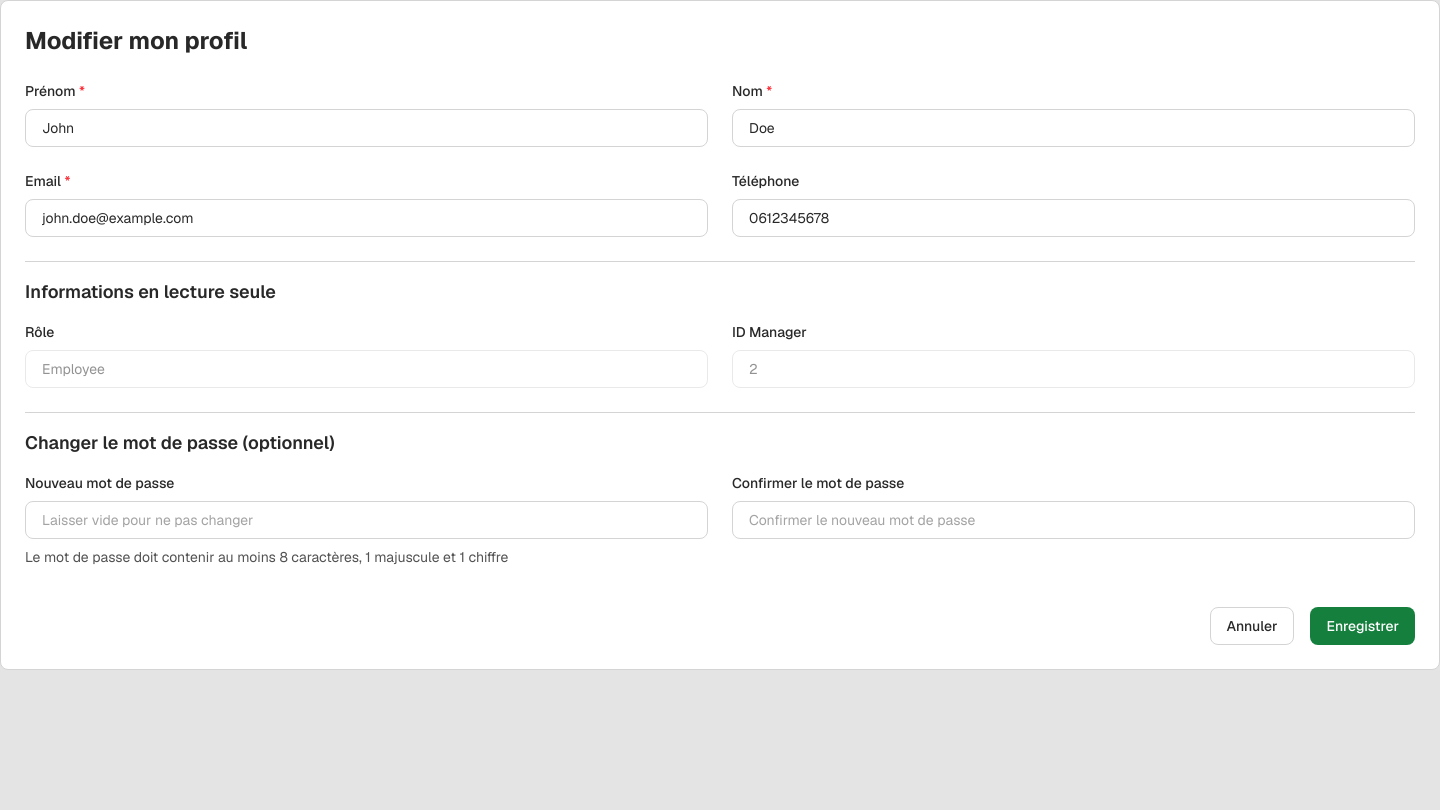
it: ProfileEditForm › Form Validation - Required Fields › should show error when name is empty
Clear the field labelled "Prénom *" at {"x": 366, "y": 128}, box [25,109,708,147]
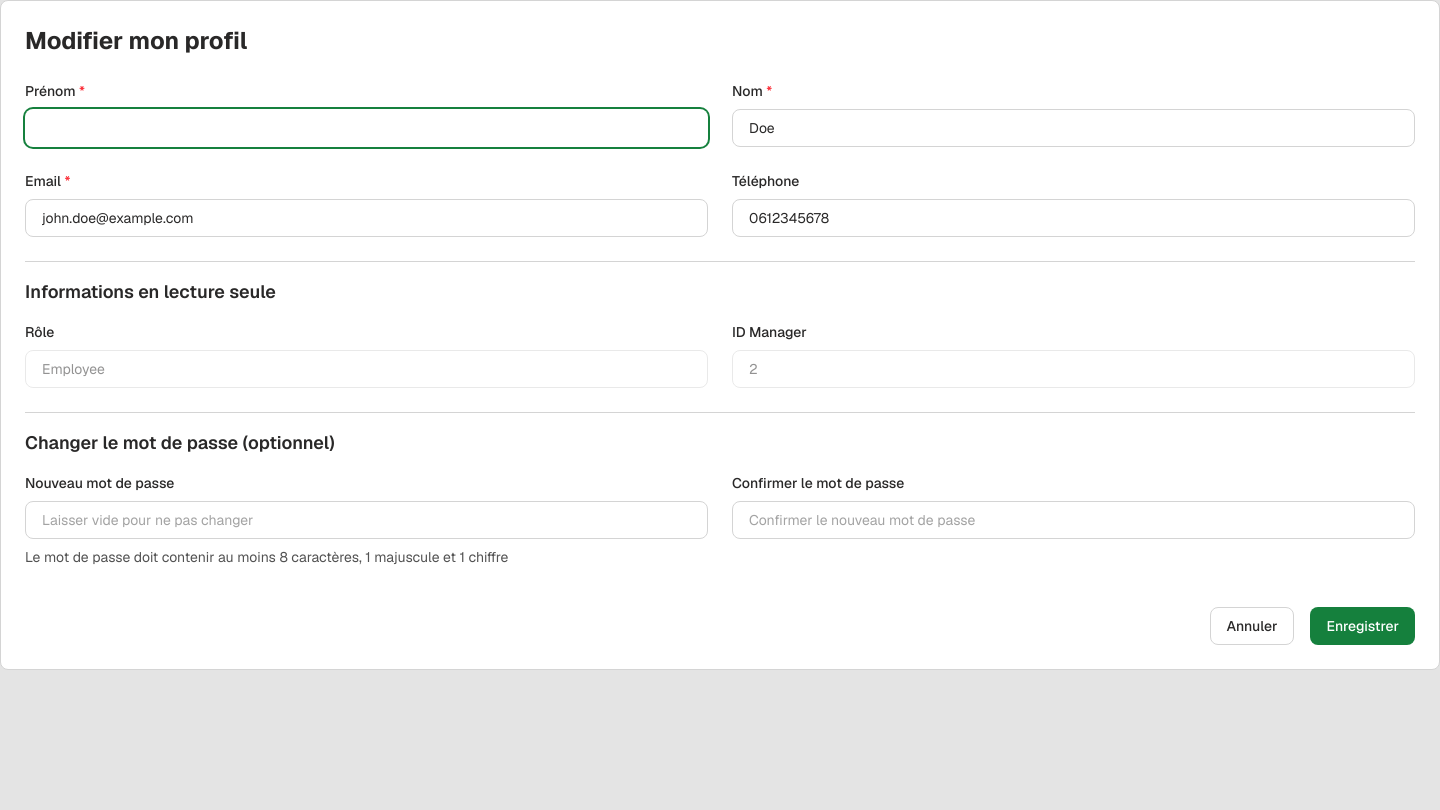
Click the button "Enregistrer" at {"x": 1363, "y": 626}, box [1310,607,1415,645]
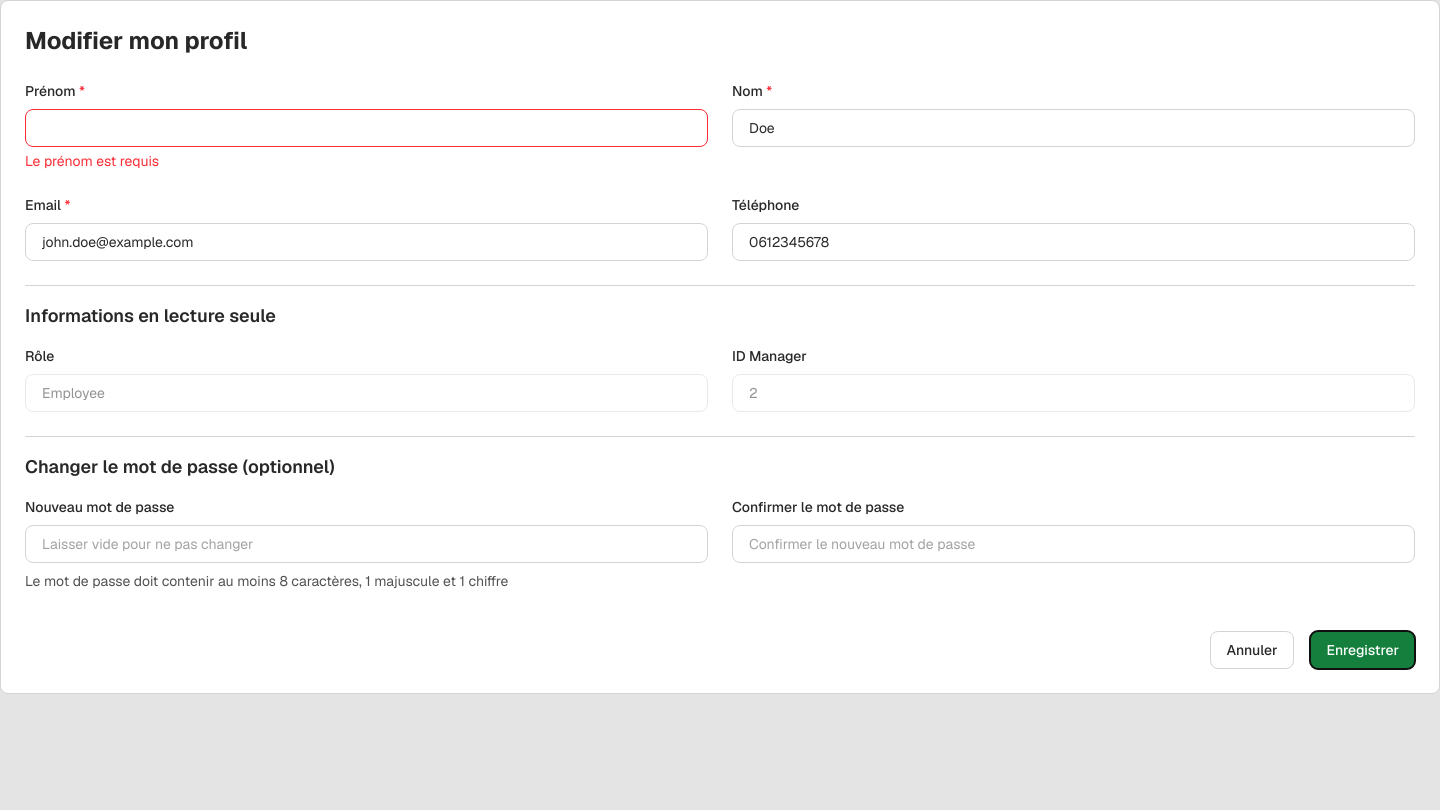
Result: the text "Le prénom est requis" is shown at [25,152,159,170]
